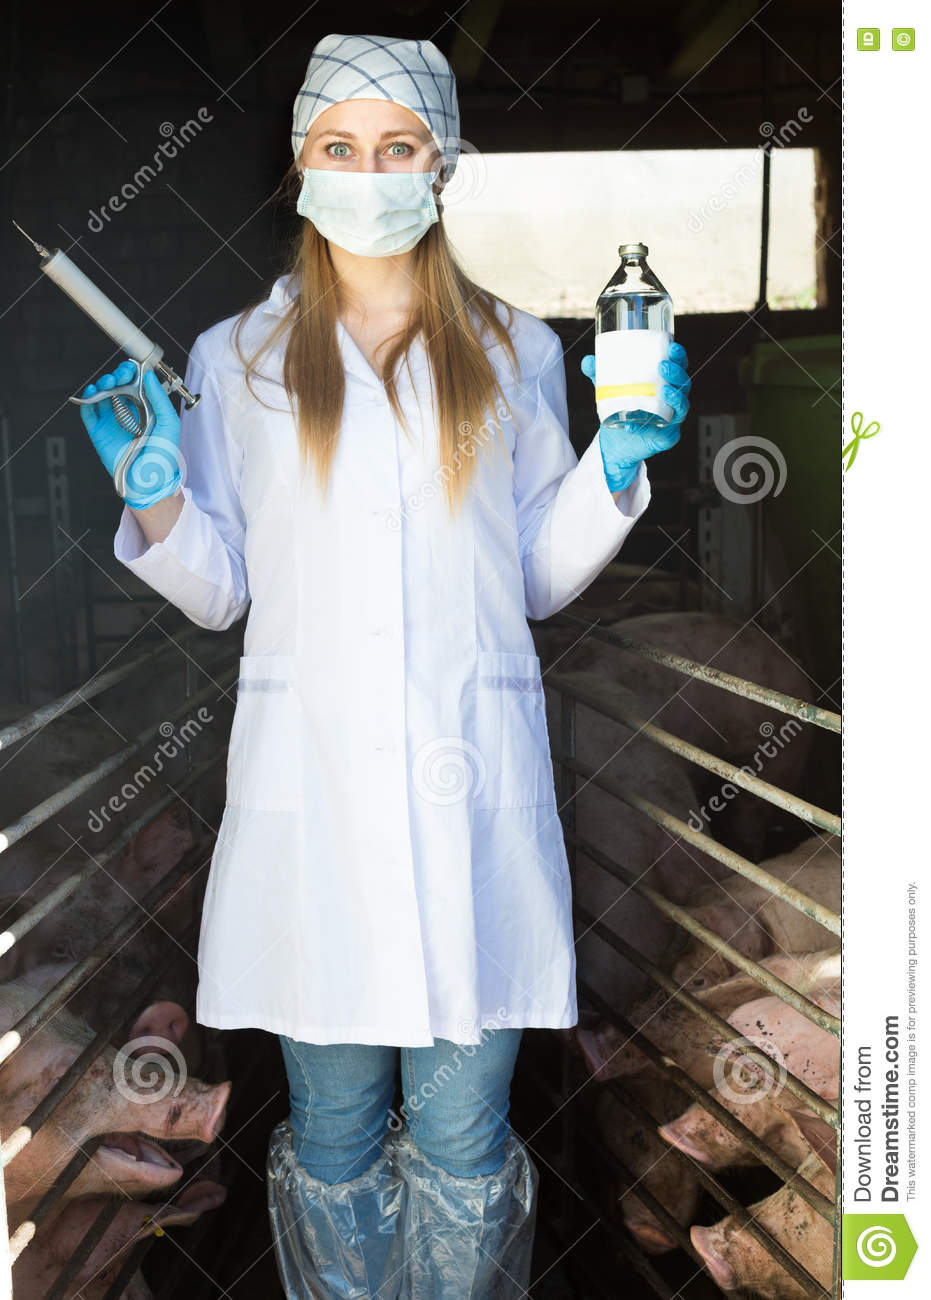mask: (296, 169, 439, 254)
